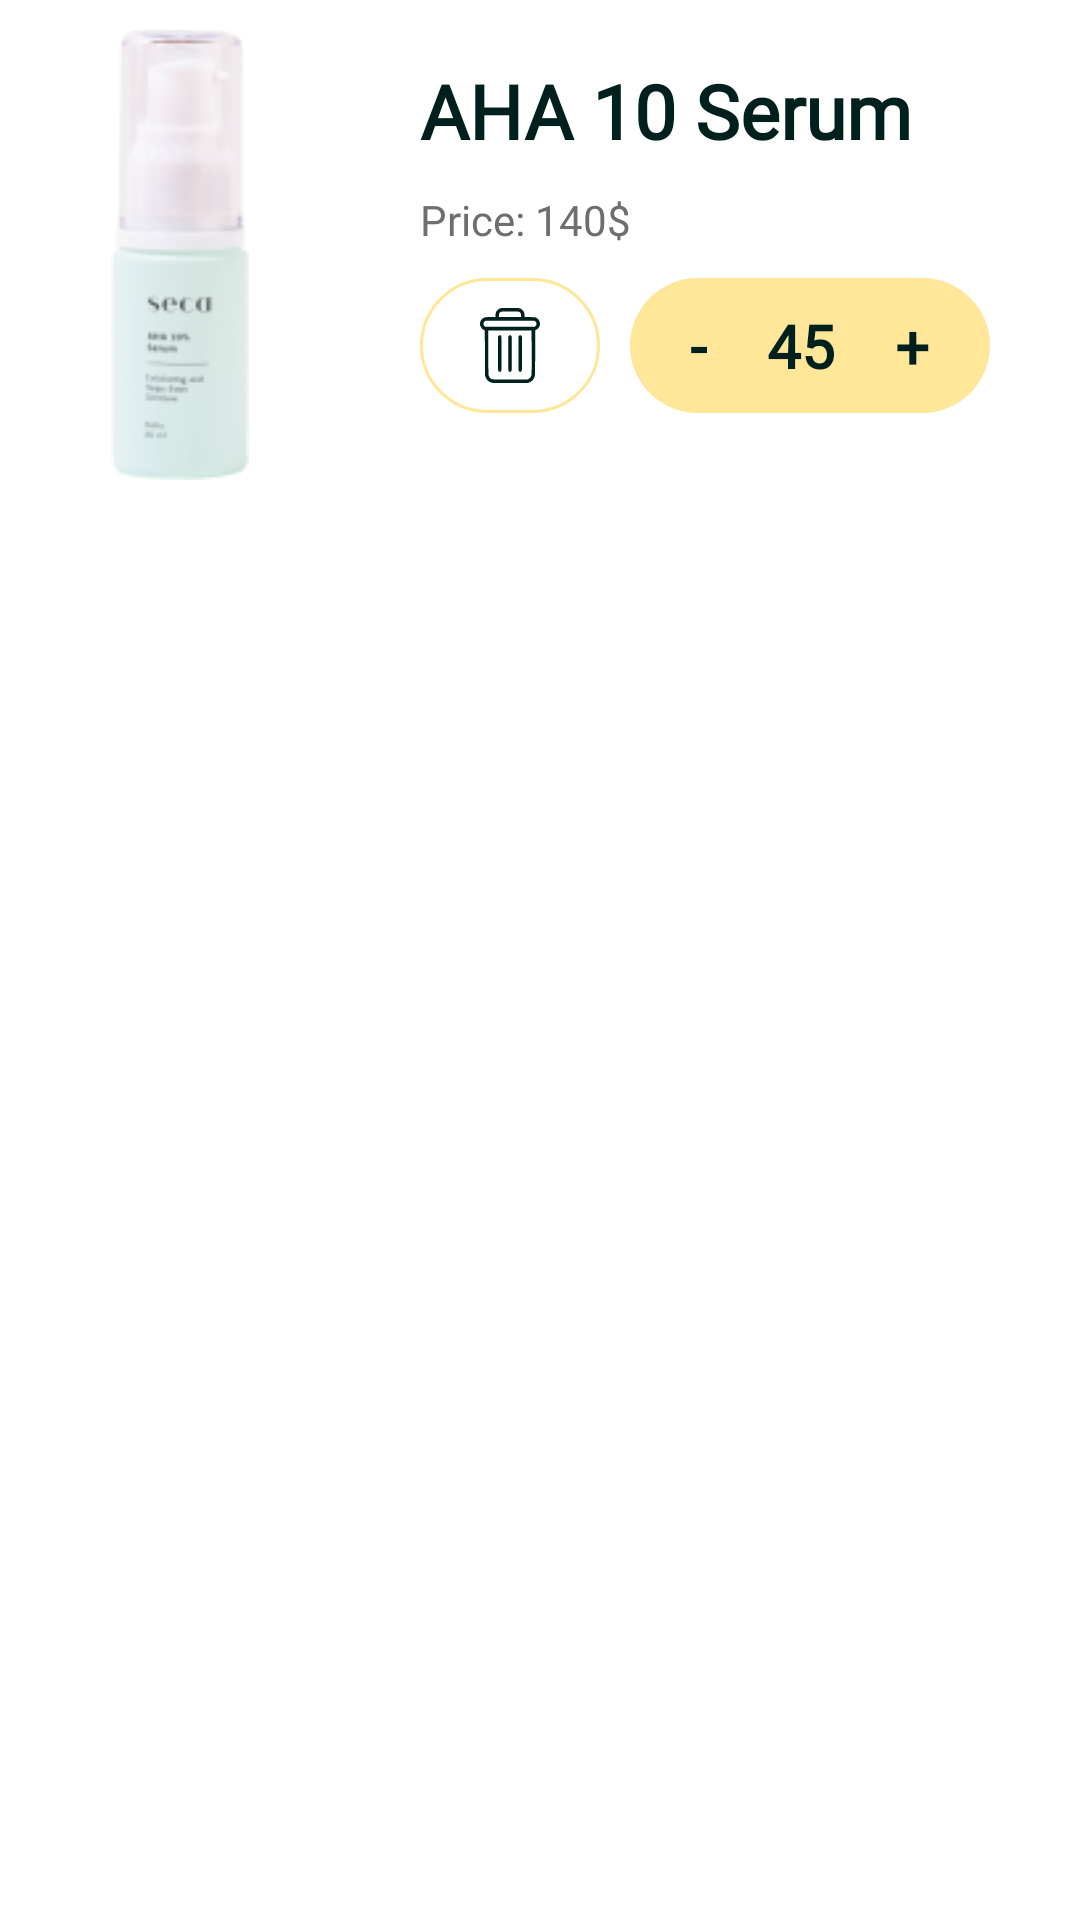

Icon click points for this 1080w x 1920h phone screenshot, format (x=x, y=y):
delete: (x=510, y=345)
